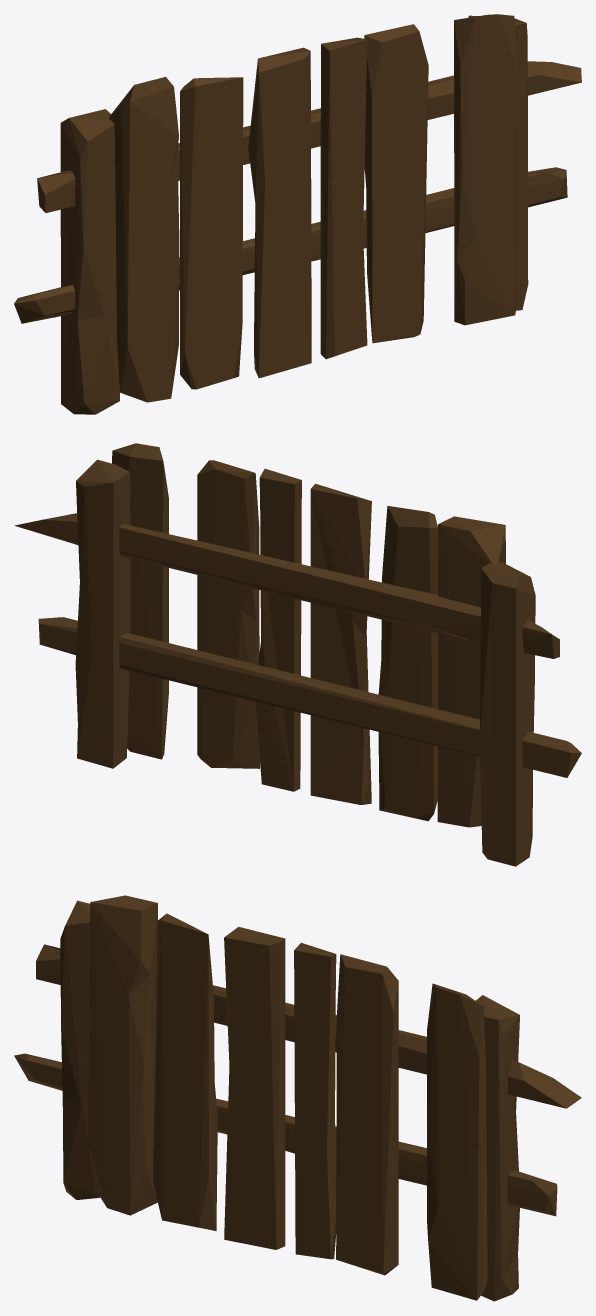
The model's file is SM_fence_03.fbx.
3 views of the same model, one above another, from view 1: azimuth 30°, elevation 25°; view 2: azimuth 150°, elevation 25°; view 3: azimuth 330°, elevation 25° (orthographic).
Visible parts, largest first — view 1: Object32393; view 2: Object32393; view 3: Object32393.
Boxes of the visible parts, x1,y1,x2,y2 form: Object32393: (14, 14, 581, 414); Object32393: (14, 443, 581, 866); Object32393: (14, 895, 581, 1301).
Size of the model in its own units: 90.04 by 47.59 by 8.12.
